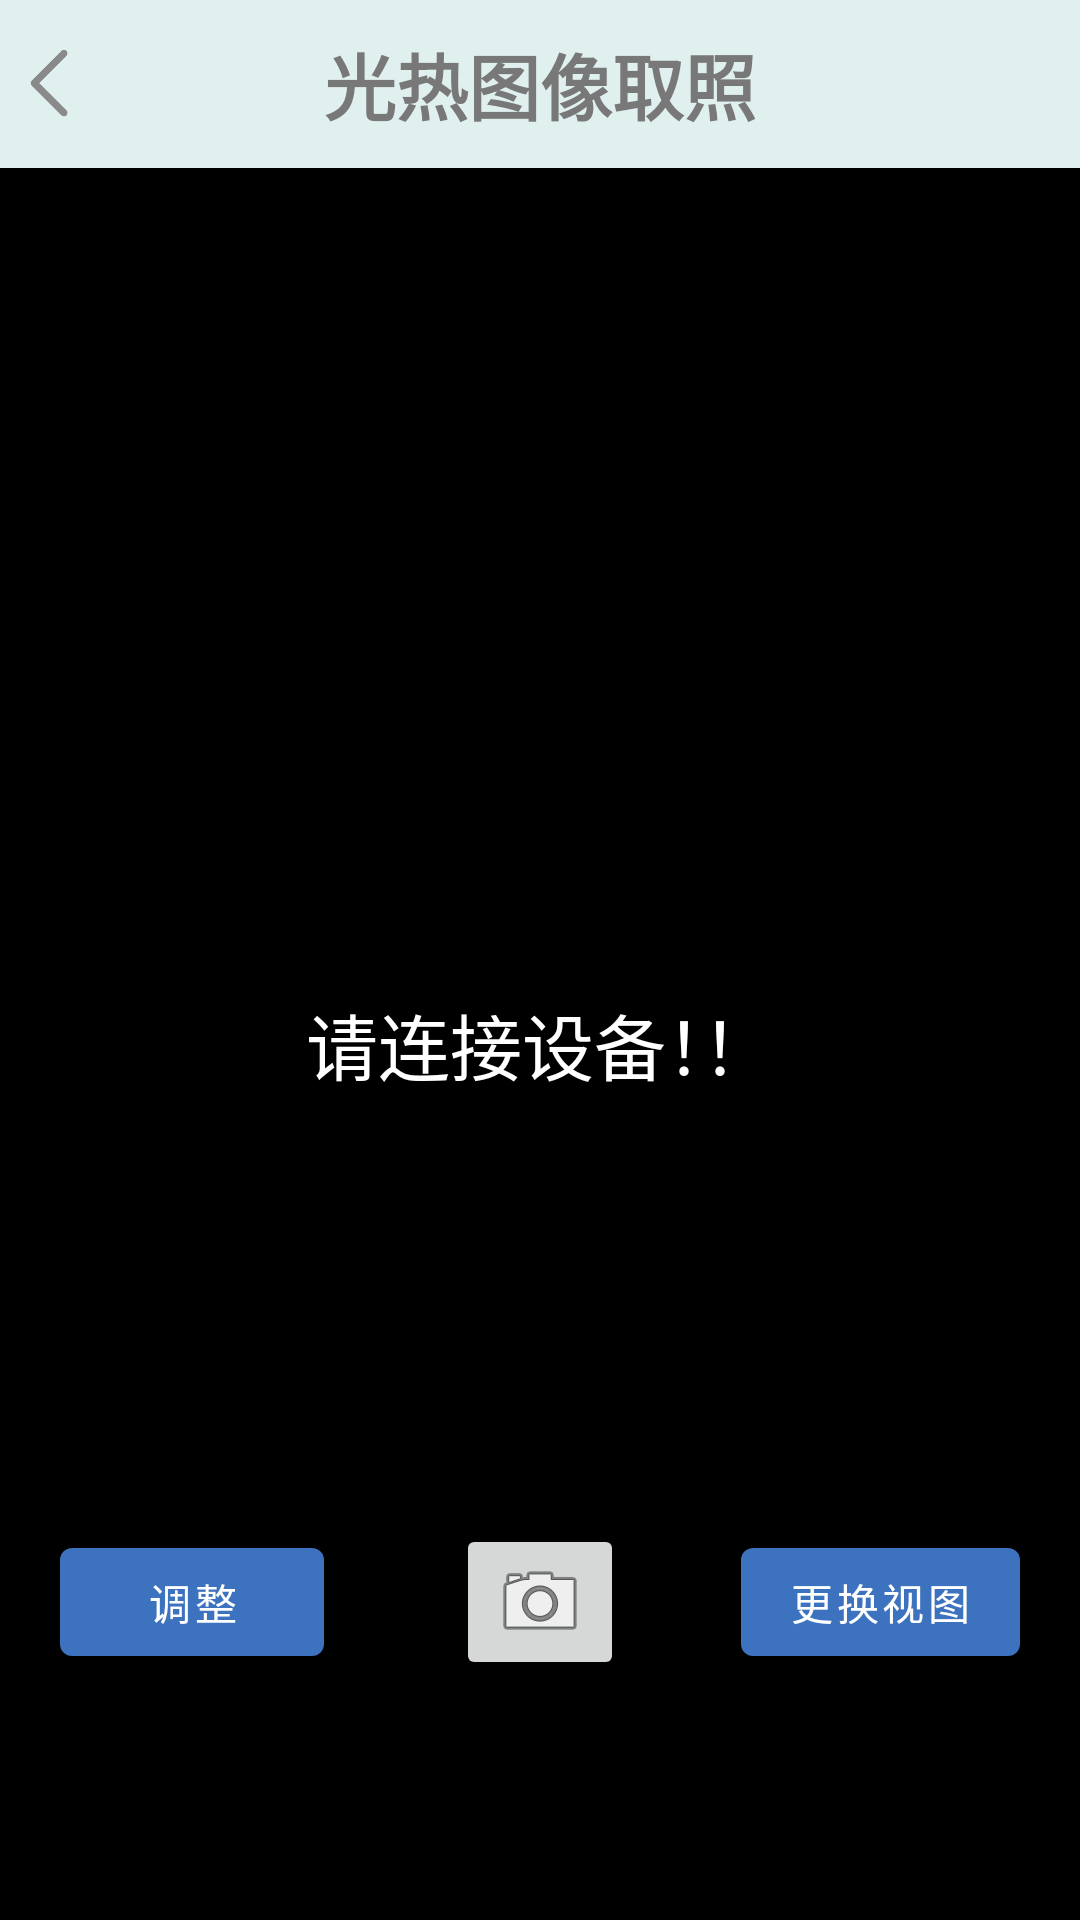

Screen size 1080*1920. Icon name, then its center in pixels as point (x, y):
back: point (49, 83)
camera: point (540, 1602)
